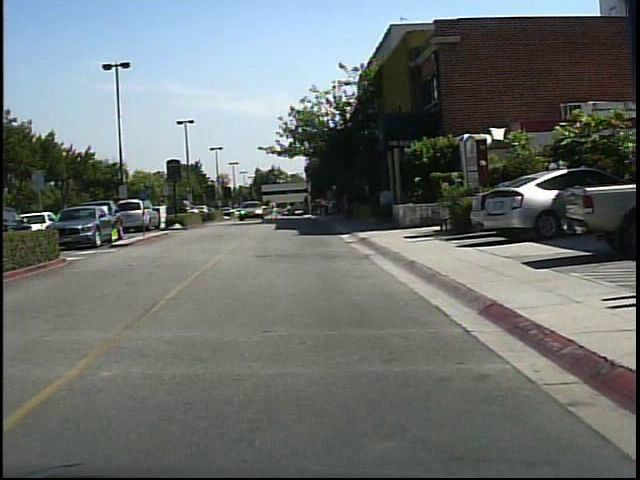person: (155, 194, 171, 229), (268, 195, 280, 222)
